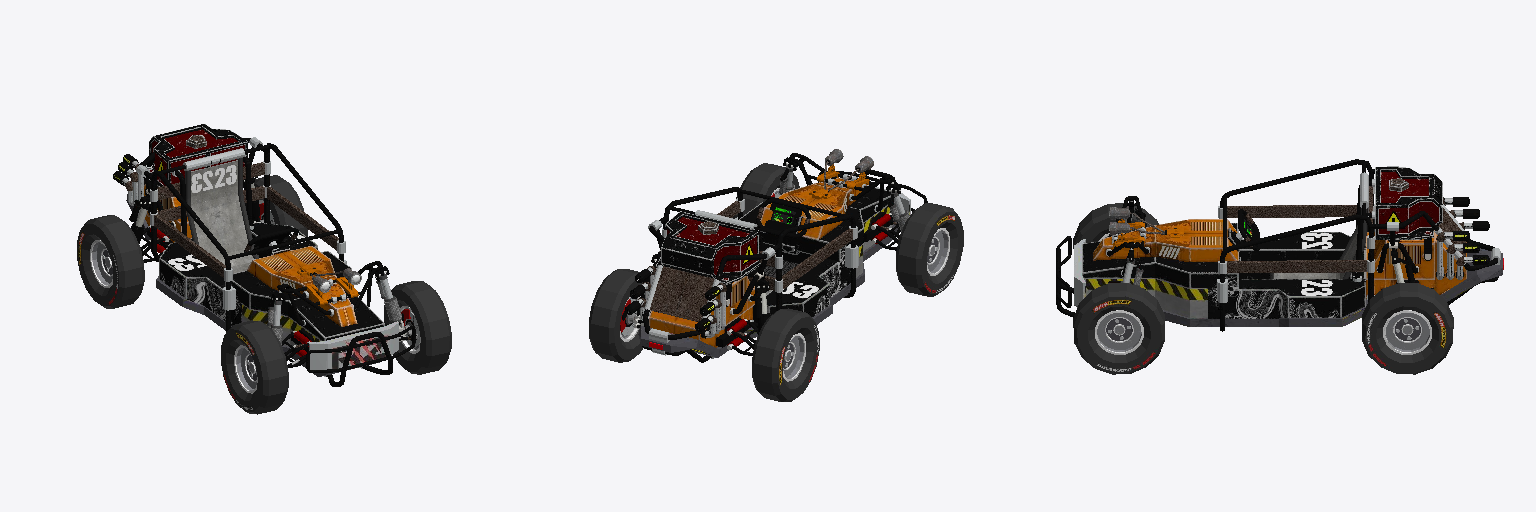
3 renders of one model, left to right at view 1: azimuth 30°, elevation 25°; view 2: azimuth 150°, elevation 25°; view 3: azimuth 270°, elevation 25°, orthographic.
Visible parts, largest first — view 1: 1_BAN_Cylinder.010, 3_FRAME_1_Cube.003, 7_BODY_1_Plane.002, 6_KURSI_Plane.003, 5_GAS_N_BENSIN_Cube.002, 8_BODY_2_Cube.001, 4_FRAME_2_Cube.004, 9_ACC_9_ACC.001, 2_STIR_Circle.001; view 2: 1_BAN_Cylinder.010, 3_FRAME_1_Cube.003, 7_BODY_1_Plane.002, 5_GAS_N_BENSIN_Cube.002, 4_FRAME_2_Cube.004, 8_BODY_2_Cube.001, 2_STIR_Circle.001, 9_ACC_9_ACC.001; view 3: 7_BODY_1_Plane.002, 1_BAN_Cylinder.010, 3_FRAME_1_Cube.003, 5_GAS_N_BENSIN_Cube.002, 8_BODY_2_Cube.001, 4_FRAME_2_Cube.004, 9_ACC_9_ACC.001, 6_KURSI_Plane.003, 2_STIR_Circle.001.
Part boxes in pixels (bbox=[...]): 1_BAN_Cylinder.010: bbox=[77, 175, 451, 414]; 3_FRAME_1_Cube.003: bbox=[136, 137, 415, 386]; 7_BODY_1_Plane.002: bbox=[144, 184, 384, 340]; 6_KURSI_Plane.003: bbox=[185, 158, 258, 273]; 5_GAS_N_BENSIN_Cube.002: bbox=[113, 124, 247, 211]; 8_BODY_2_Cube.001: bbox=[126, 194, 398, 376]; 4_FRAME_2_Cube.004: bbox=[129, 176, 417, 367]; 9_ACC_9_ACC.001: bbox=[297, 266, 361, 305]; 2_STIR_Circle.001: bbox=[244, 228, 298, 255]; 1_BAN_Cylinder.010: bbox=[589, 163, 963, 401]; 3_FRAME_1_Cube.003: bbox=[642, 153, 927, 362]; 7_BODY_1_Plane.002: bbox=[649, 178, 890, 347]; 5_GAS_N_BENSIN_Cube.002: bbox=[625, 211, 760, 338]; 4_FRAME_2_Cube.004: bbox=[629, 157, 909, 355]; 8_BODY_2_Cube.001: bbox=[638, 178, 910, 357]; 2_STIR_Circle.001: bbox=[756, 199, 810, 238]; 9_ACC_9_ACC.001: bbox=[809, 149, 873, 198]; 7_BODY_1_Plane.002: bbox=[1082, 219, 1466, 318]; 1_BAN_Cylinder.010: bbox=[1073, 203, 1453, 374]; 3_FRAME_1_Cube.003: bbox=[1056, 159, 1500, 331]; 5_GAS_N_BENSIN_Cube.002: bbox=[1375, 167, 1489, 279]; 8_BODY_2_Cube.001: bbox=[1074, 239, 1503, 326]; 4_FRAME_2_Cube.004: bbox=[1093, 200, 1433, 289]; 9_ACC_9_ACC.001: bbox=[1109, 207, 1183, 248]; 6_KURSI_Plane.003: bbox=[1270, 208, 1366, 278]; 2_STIR_Circle.001: bbox=[1231, 209, 1259, 250].
Bounding box in the file's own units: 3.29 × 2.48 × 6.77.
10 materials, 10 textured.